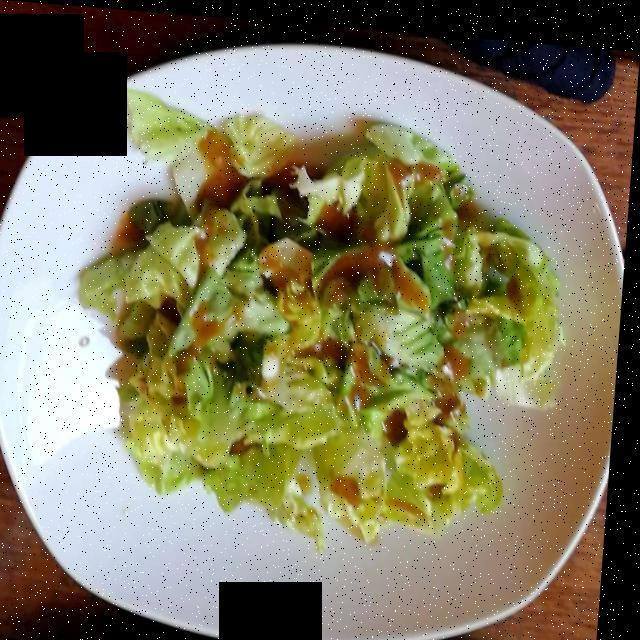salad: (95, 102, 561, 526), (116, 121, 524, 440)
